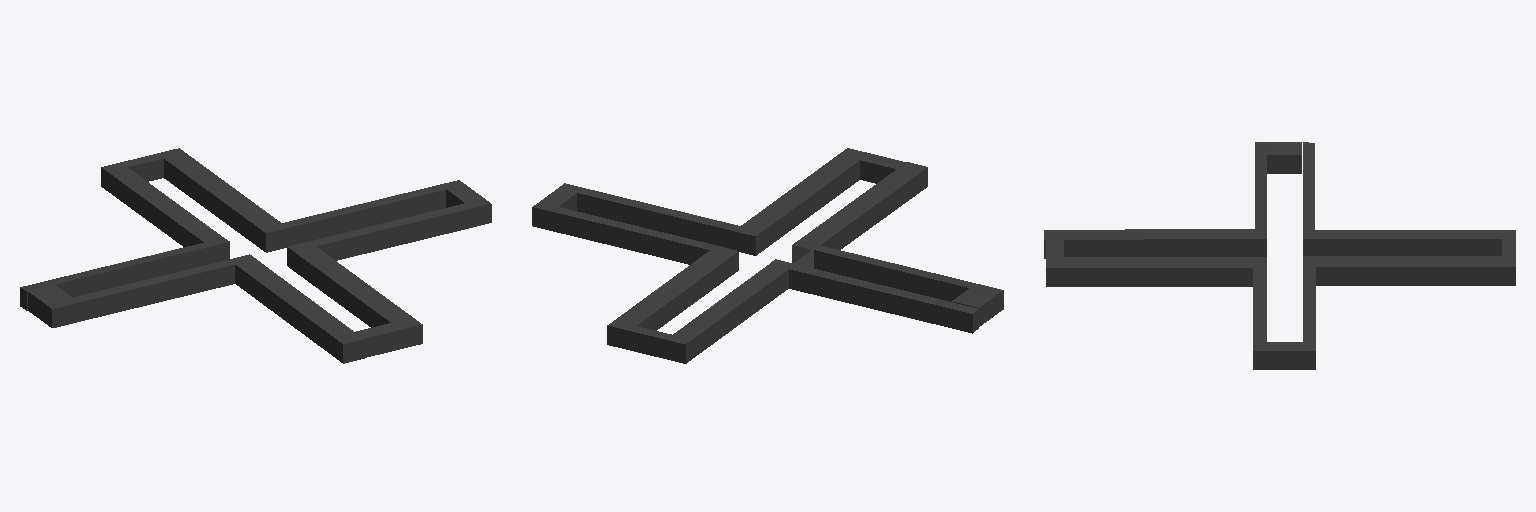
robot.urdf — tmaze.urdf:
<?xml version="0.0" ?>
<robot name="tmaze.urdf">
  <link concave="yes" name="baseLink">
    <inertial>
      <origin rpy="0 0 0" xyz="0 0 0"/>
       <mass value="0"/>
       <inertia ixx="0" ixy="0" ixz="0" iyy="0" iyz="0" izz="0" />
    </inertial>
    <visual>
      <origin rpy="1.5707963 0 0" xyz="0 0 0.01"/>
      <geometry>
		    <mesh filename="crossroad.obj" scale="1 1 1"/>
      </geometry>
		  <material name="grey">
          <color rgba="0.3 0.3 0.3 1"/>
      </material>
    </visual>
    <collision concave="yes">
      <origin rpy="1.5707963 0 0" xyz="0 0 0.01"/>
      <geometry>
          <mesh filename="crossroad.obj" scale="1 1 1"/>
      </geometry>
    </collision>
  </link>
</robot>

--- Render facts (derived) ---
Views: 3 orthographic renders of the robot side by side, from view 1: azimuth 30°, elevation 25°; view 2: azimuth 150°, elevation 25°; view 3: azimuth 270°, elevation 25°.
Robot: tmaze.urdf — 1 links, 0 joints (none); root link baseLink; default pose: every joint at zero.
Visible links, largest first — view 1: baseLink; view 2: baseLink; view 3: baseLink.
Link boxes in pixels (x1,y1,x2,y2): baseLink: (20, 148, 491, 363); baseLink: (532, 148, 1003, 363); baseLink: (1044, 142, 1515, 369).
Size in the robot's own frame: 1.57 by 1.5 by 0.0703 metres.
Meshes: 1 distinct files referenced, 1 mesh visuals loaded (1 OBJ).
